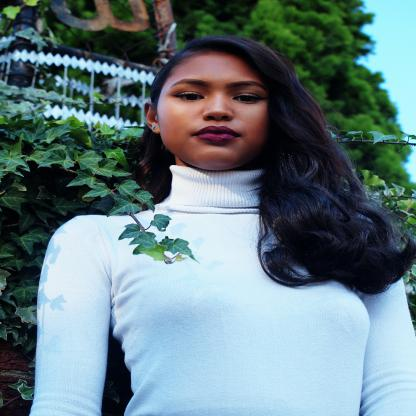Eye: (233, 93, 264, 105), (173, 91, 203, 101)
Mouth: (191, 125, 244, 142)
Nose: (201, 91, 234, 121)
